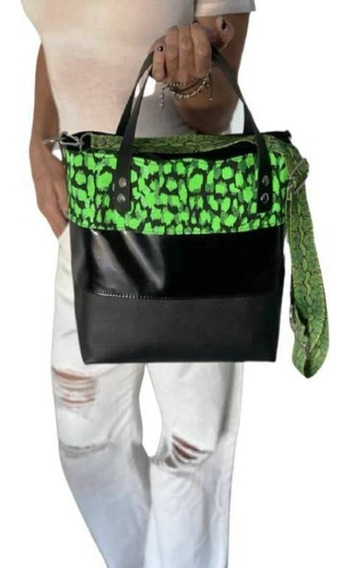cartera: (51, 33, 293, 365)
